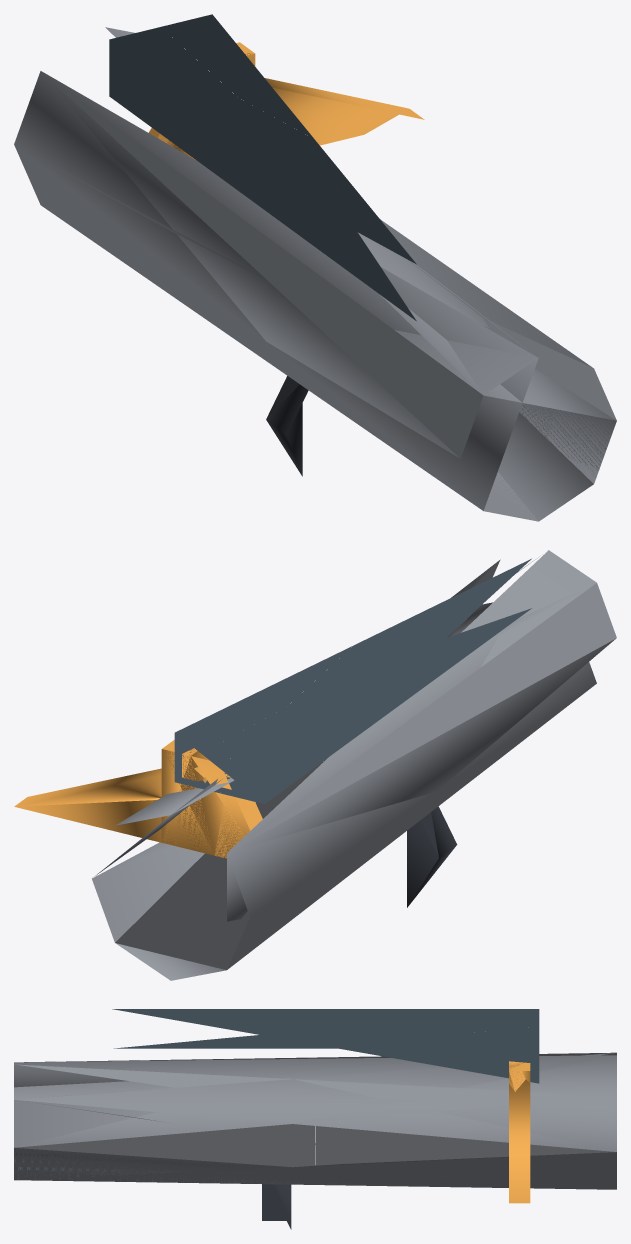
The model's file is KINETIC_RocketLauncher.glb.
The picture shows the model from 3 angles, top to bottom: view 1: azimuth 30°, elevation 25°; view 2: azimuth 150°, elevation 25°; view 3: azimuth 270°, elevation 25°; orthographic projection. The views are drawn at different scales.
Visible parts, largest first — view 1: KINETIC_RocketLauncher; view 2: KINETIC_RocketLauncher; view 3: KINETIC_RocketLauncher.
Boxes of the visible parts, x1,y1,x2,y2 form: KINETIC_RocketLauncher: (14, 14, 616, 521); KINETIC_RocketLauncher: (14, 550, 616, 980); KINETIC_RocketLauncher: (14, 1009, 616, 1229).
Bounding box in the file's own units: 0.275 × 0.2449 × 0.62.
